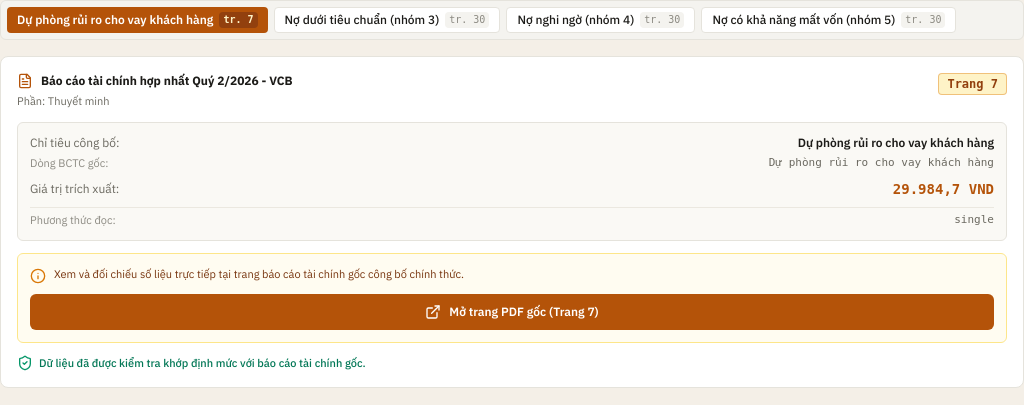
it: SourceDrawer Component (LIN-1) › Item 7c: leaf pages 7 and 30 are rendered with each leaf's own page
The image size is (1024, 405).
Check: the text "tr. 7" is shown, box [219,12,258,28]
Check: the text "Trang 7" is shown, box [938,73,1007,95]
// Clicking on Group 3 leaf button displays Trang 30 in header badge
What coordinates should you click on to do the following:
click the button "Nợ dưới tiêu chuẩn (nhóm 3) tr. 30"
I would click on:
 (387, 20)
Its box is [274,7,500,33].
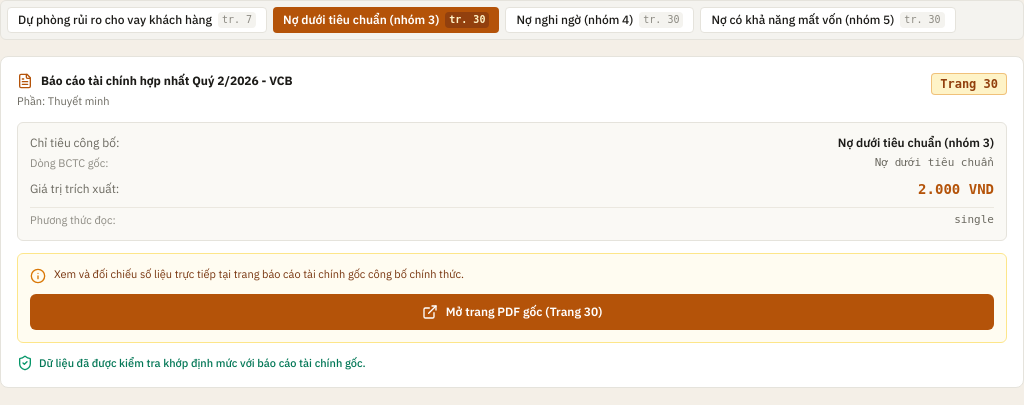
Check: the text "Trang 30" is shown, box [931,73,1007,95]
